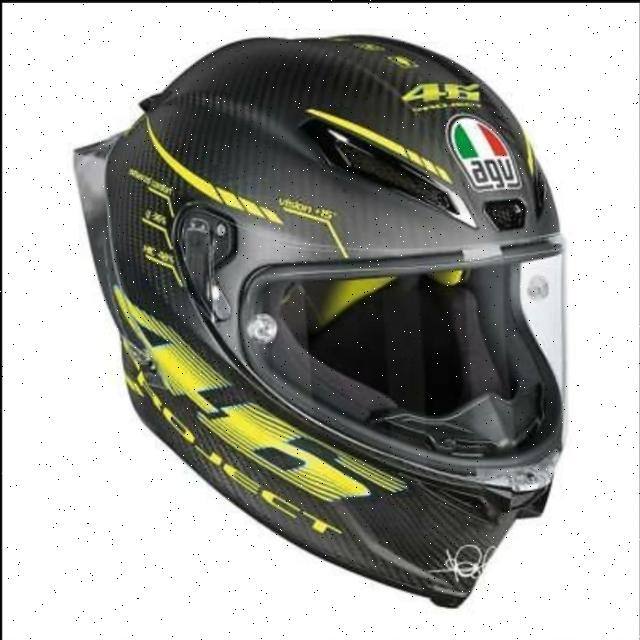Helmet: (72, 36, 566, 610)
